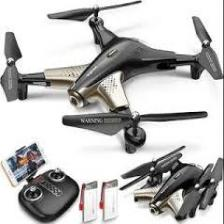drone: (0, 0, 224, 155)
